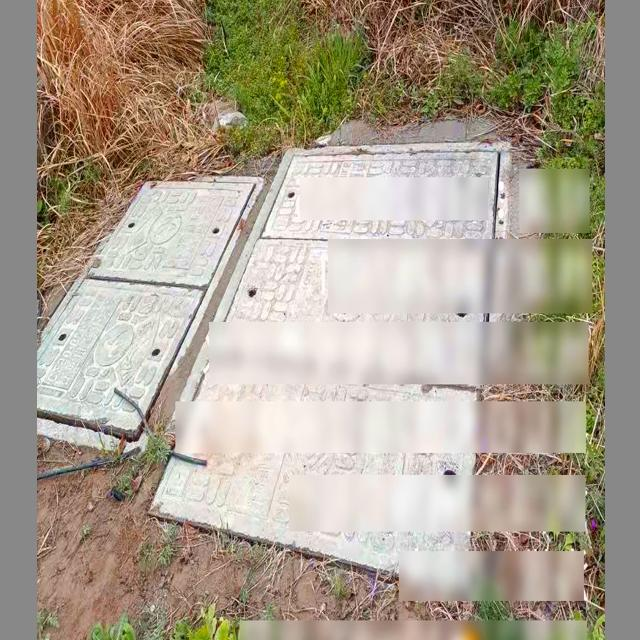good: (145, 139, 514, 588), (37, 173, 262, 454)
